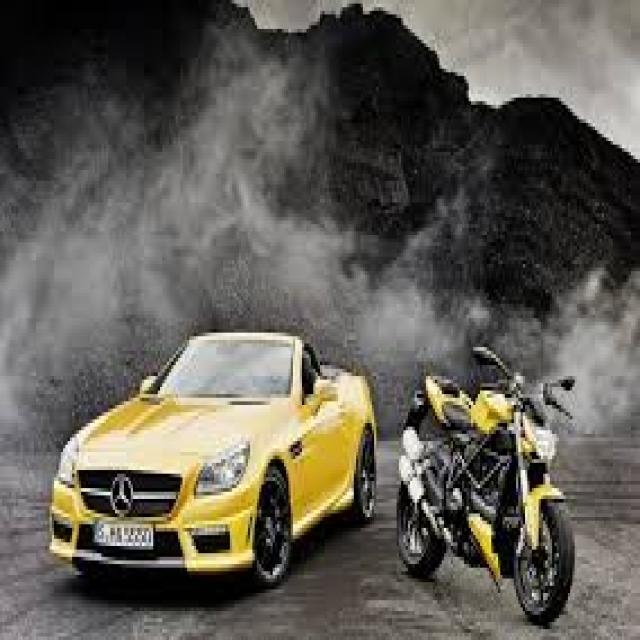bike: (392, 323, 623, 632)
car: (34, 256, 388, 610)
